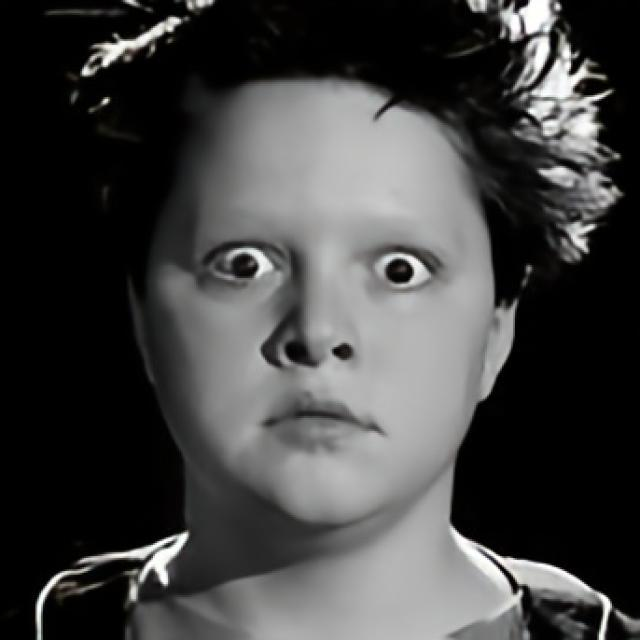fear: (145, 86, 492, 524)
